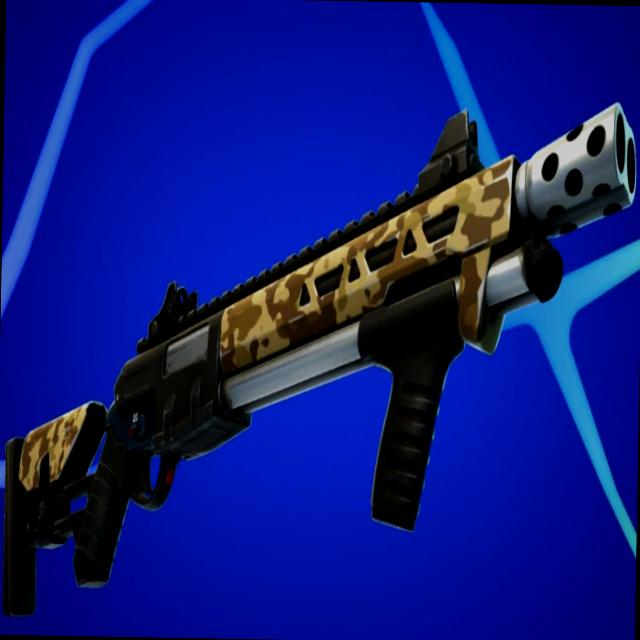shotgun: (0, 76, 640, 640)
